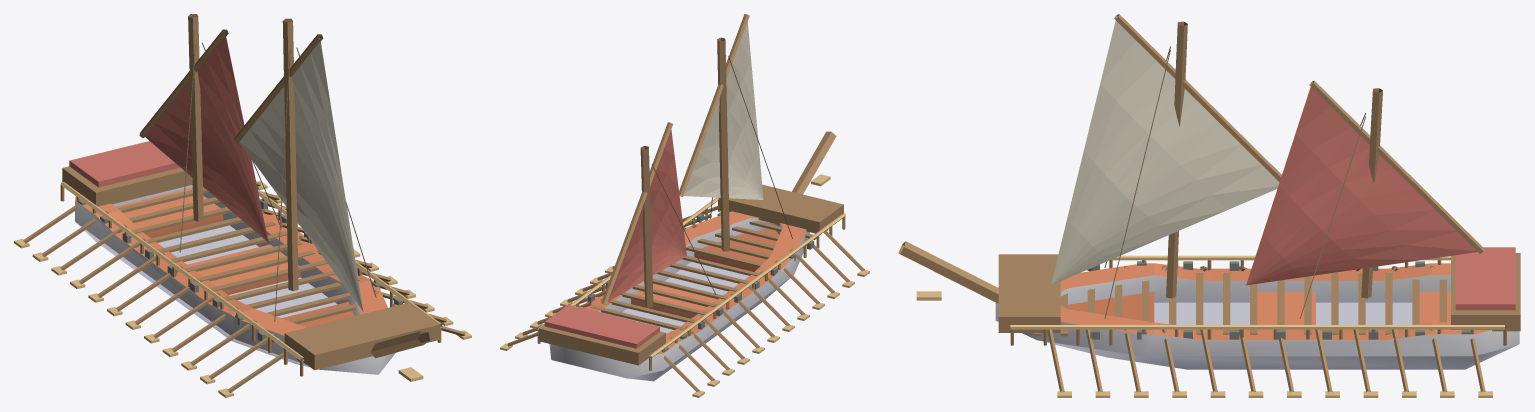
The model's file is kadirga-custom.glb.
3 views of the same model, side by side, from view 1: azimuth 30°, elevation 25°; view 2: azimuth 150°, elevation 25°; view 3: azimuth 270°, elevation 25° (orthographic). The views are drawn at different scales.
Parts seen in each view (by area): view 1: kadirga wood, boat-row-large, kadirga red, kadirga linen, kadirga gold, kadirga rope, kadirga dark; view 2: kadirga wood, boat-row-large, kadirga red, kadirga linen, kadirga gold, kadirga dark, kadirga rope; view 3: boat-row-large, kadirga linen, kadirga red, kadirga wood, kadirga gold, kadirga dark, kadirga rope.
Boxes of the visible parts, x1,y1,x2,y2 form: kadirga wood: (23,14,465,392); boat-row-large: (75,185,395,374); kadirga red: (69,32,268,242); kadirga linen: (239,37,363,311); kadirga gold: (14,181,471,397); kadirga rope: (179,42,376,321); kadirga dark: (77,199,402,340); kadirga wood: (507,14,864,391); boat-row-large: (549,211,809,381); kadirga red: (544,130,686,348); kadirga linen: (680,22,763,199); kadirga gold: (500,174,869,397); kadirga dark: (587,213,814,351); kadirga rope: (652,56,792,294); boat-row-large: (995,263,1519,369); kadirga linen: (1051,17,1279,284); kadirga red: (1246,83,1515,310); kadirga wood: (898,14,1520,392); kadirga gold: (916,255,1504,397); kadirga dark: (1090,261,1471,339); kadirga rope: (1104,46,1365,318).
Bounding box in the file's own units: 7.58 × 9.36 × 16.09.
7 materials, 1 textured.
